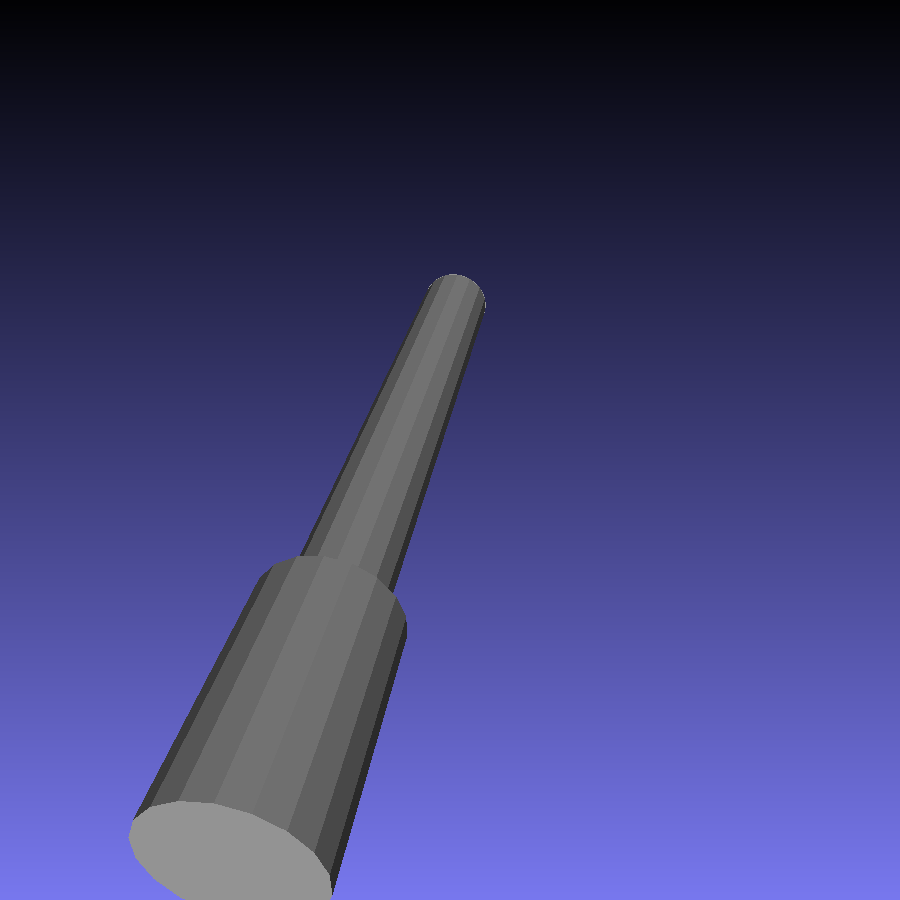cargo_g: (128, 274, 486, 899)
